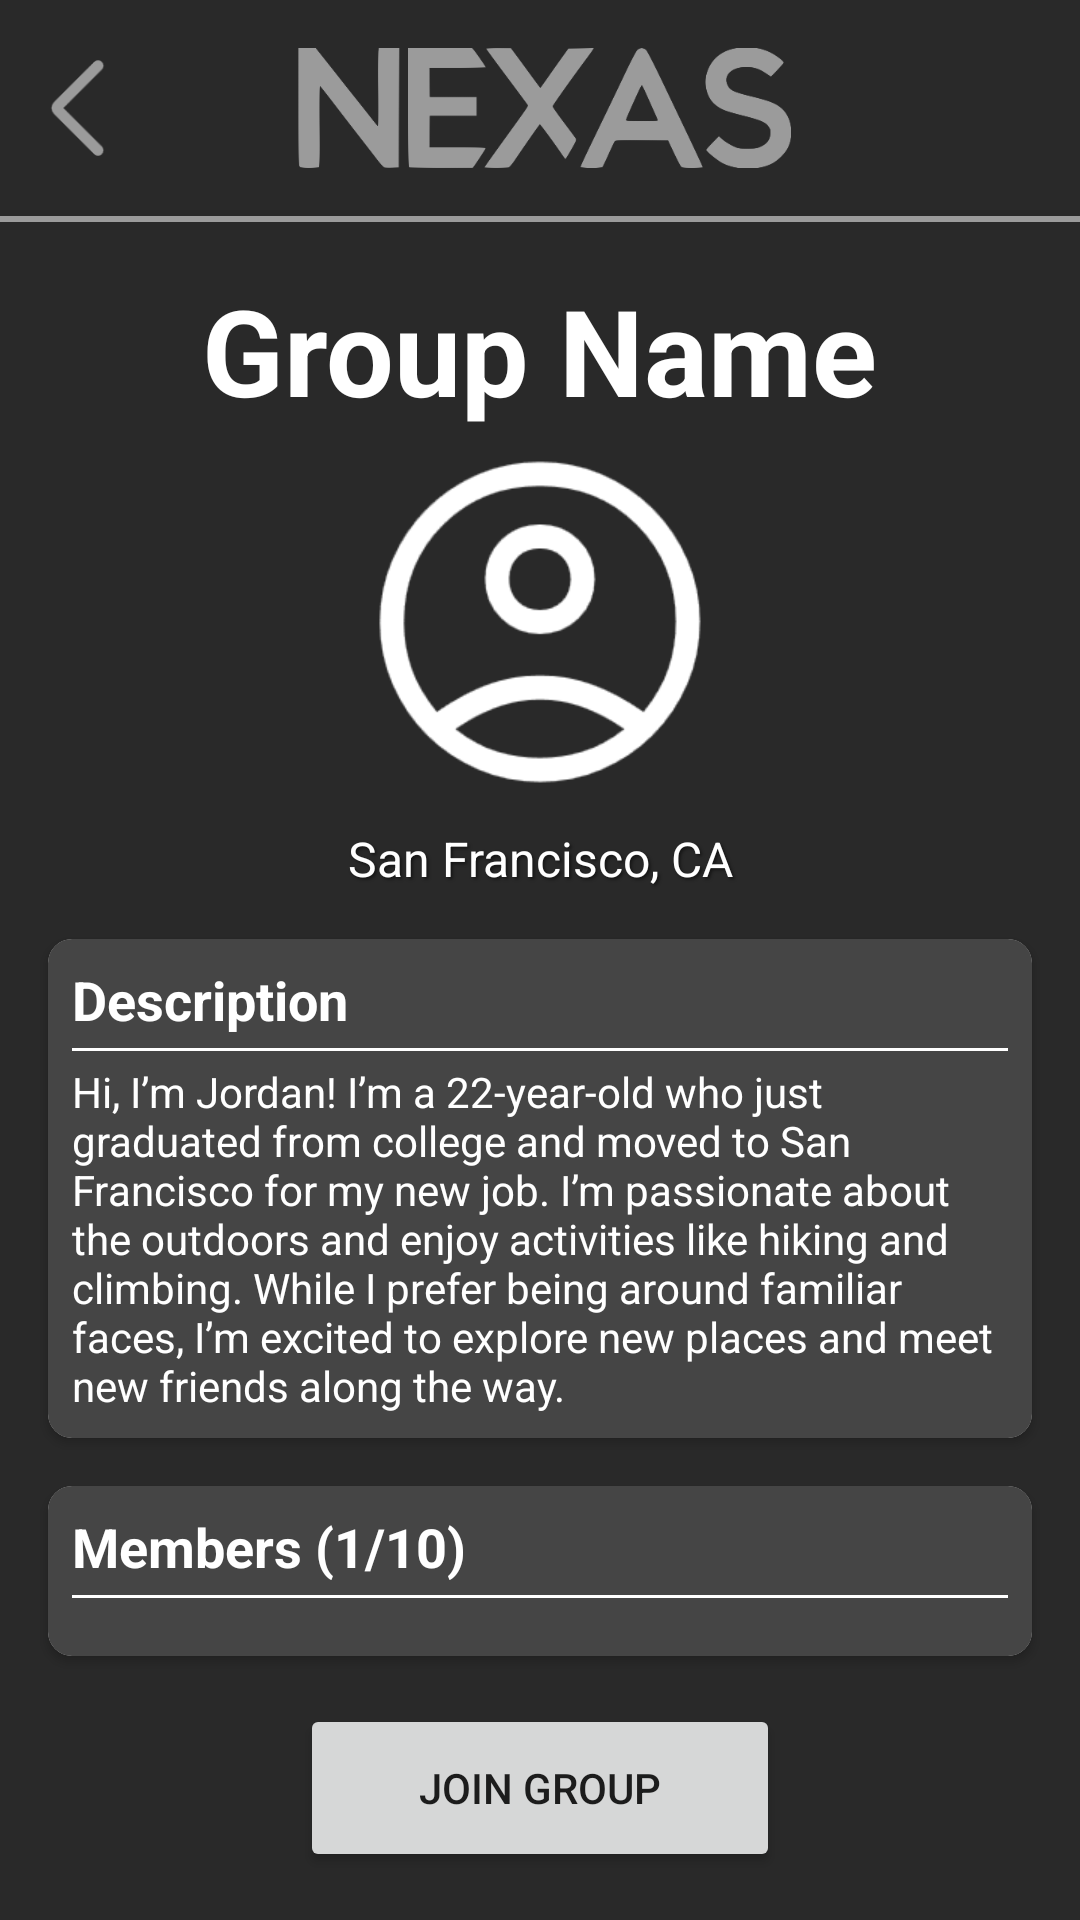

Where icons sit on this 1080*1920 app screen, as (x1, y1, x2, y2):
account: (379, 461, 701, 783)
